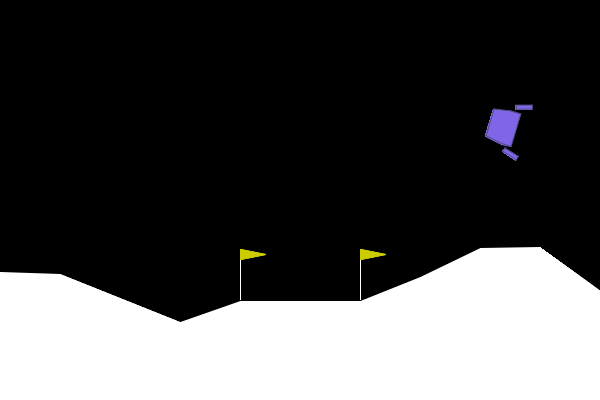lander: (479, 93, 534, 162)
